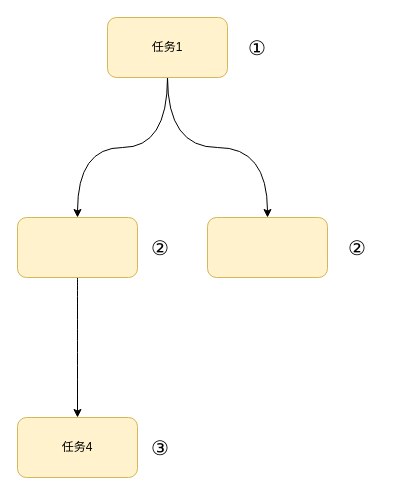
The diagram is 395 pixels wide and 495 high, and some of its shapes have lost their labels. Here are the shapes that lost their labels. From the top down, the centre of each, then its label:
At point (77, 247): "任务2".
At point (267, 247): "任务3".
